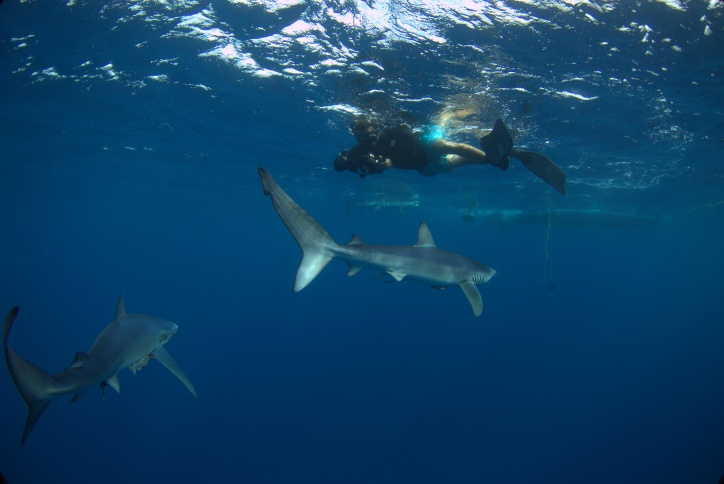Azul: (236, 159, 502, 332)
